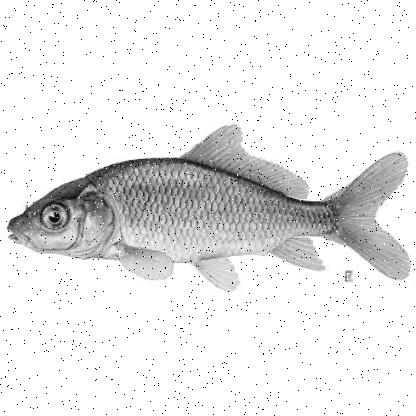ikan-mas: (7, 122, 410, 286)
